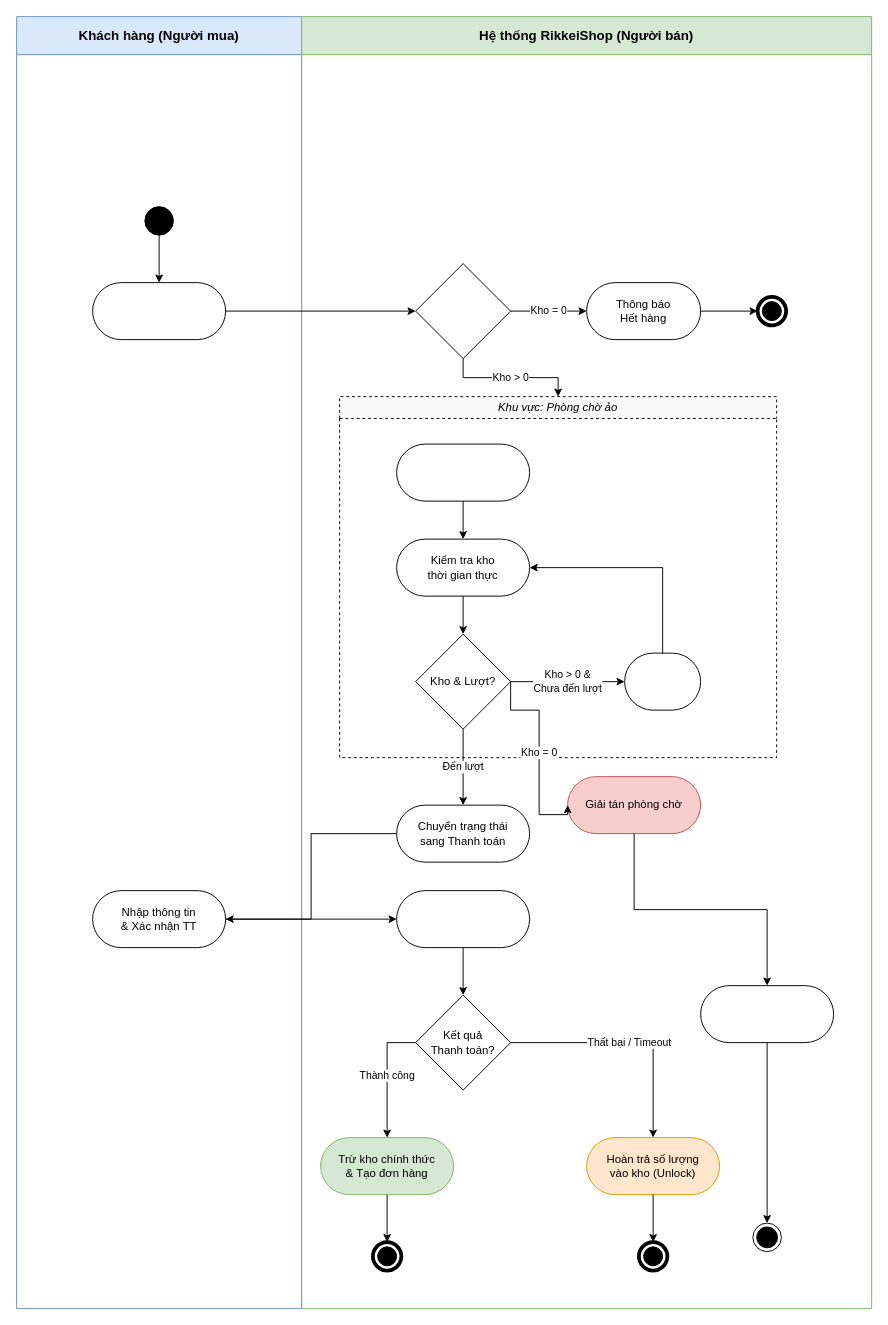
Some shapes in this 888 by 1325 pixel diagram are drawn without their labels. Each missing label, with the centre of its shape:
Cấp số thứ tự & Hiển thị thời gian chờ: (463,472)
Gọi Cổng TT & Khóa giữ kho: (463,919)
Hiển thị: Sản phẩm đã hết hàng: (767,1014)
Kiểm tra kho ban đầu: (463,311)
Nhấn "Mua ngay": (159,311)
Đợi 10s / 500 req: (662,681)
